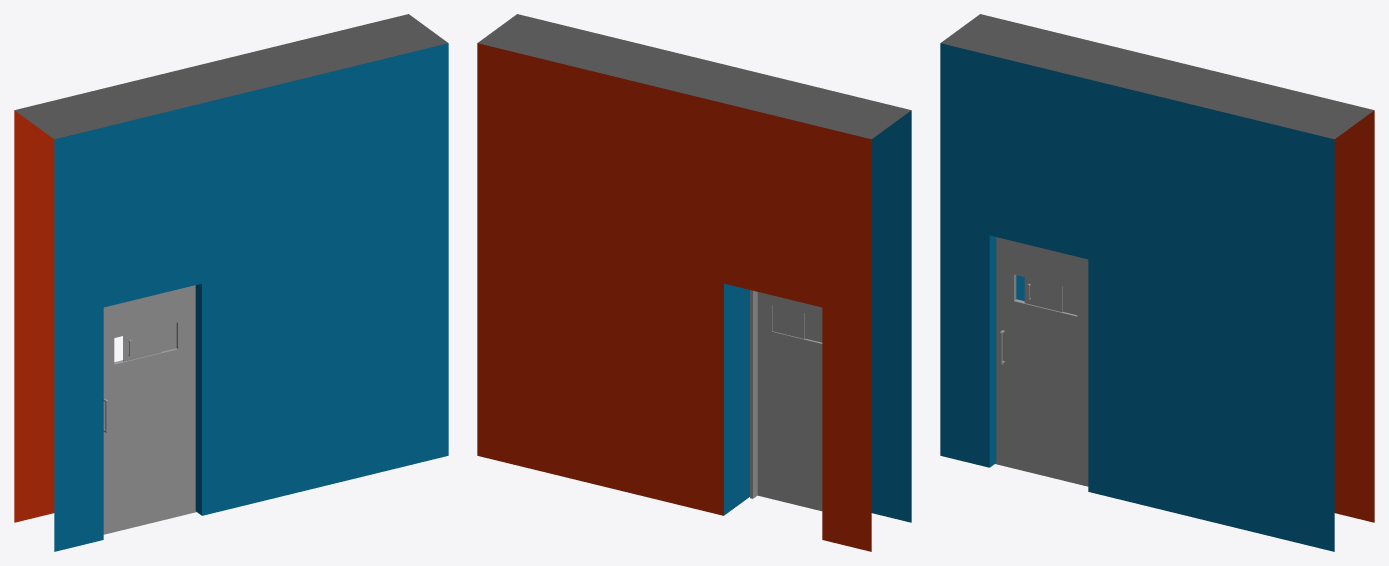
File: Prison_Wall_door.fbx
3 views of the same model, side by side, from view 1: azimuth 30°, elevation 25°; view 2: azimuth 150°, elevation 25°; view 3: azimuth 330°, elevation 25° (orthographic).
Visible parts, largest first — view 1: Wall_Door_Side_L_4x4, Fixtures:Small_Door2; view 2: Wall_Door_Side_L_4x4, Fixtures:Small_Door2; view 3: Wall_Door_Side_L_4x4, Fixtures:Small_Door2.
Part boxes in pixels (x1,y1,x2,y2): Wall_Door_Side_L_4x4: (14, 14, 448, 551); Fixtures:Small_Door2: (103, 285, 196, 534); Wall_Door_Side_L_4x4: (477, 14, 911, 551); Fixtures:Small_Door2: (750, 290, 822, 511); Wall_Door_Side_L_4x4: (940, 14, 1374, 551); Fixtures:Small_Door2: (995, 237, 1088, 486).
Size of the model in its own units: 4 by 4.01 by 0.7.
